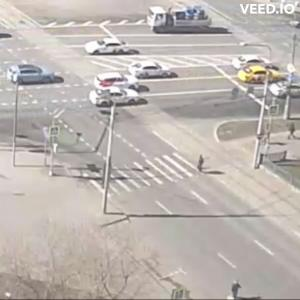car: (145, 4, 217, 36), (7, 64, 63, 87), (94, 87, 150, 109), (128, 61, 179, 81), (86, 40, 141, 57), (89, 71, 136, 88), (230, 51, 273, 65), (239, 68, 279, 83), (271, 84, 300, 99)
